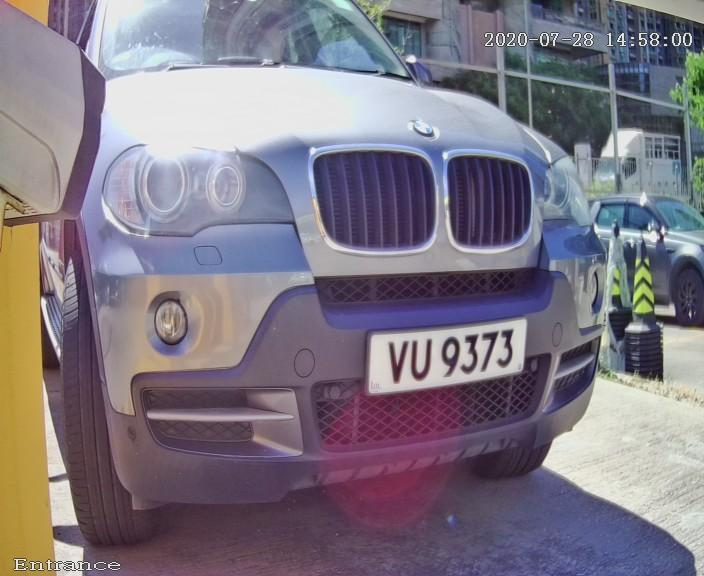privatecar: (4, 6, 676, 548)
